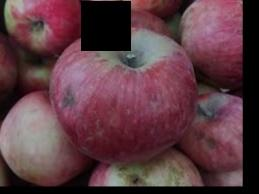rotten apple: (42, 28, 192, 158), (178, 91, 241, 169), (86, 146, 202, 186)
